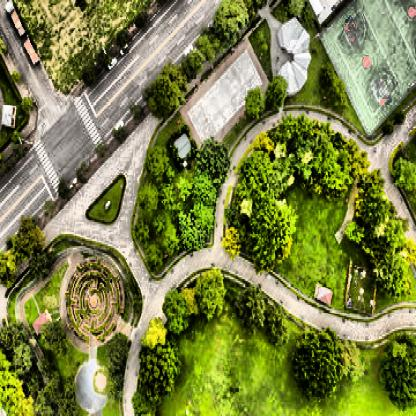tree-top: (295, 322, 340, 400), (143, 64, 196, 122), (379, 333, 416, 410), (253, 199, 290, 268), (140, 344, 177, 402), (314, 134, 348, 188), (237, 145, 268, 202), (198, 266, 227, 324), (236, 280, 268, 330), (389, 143, 416, 200), (0, 371, 34, 416), (184, 203, 212, 254), (198, 134, 228, 181), (214, 0, 245, 43), (164, 288, 188, 339), (272, 150, 295, 200), (386, 257, 412, 301), (264, 305, 291, 347), (346, 135, 371, 180), (16, 220, 44, 260), (36, 374, 62, 416), (364, 182, 388, 227), (102, 340, 128, 380), (0, 319, 26, 356), (190, 178, 220, 210), (12, 342, 37, 377), (147, 144, 170, 182), (220, 225, 244, 259), (264, 76, 288, 110), (0, 246, 18, 291), (42, 319, 66, 351), (144, 315, 168, 346), (330, 76, 349, 112), (162, 227, 181, 262), (140, 184, 160, 215), (143, 245, 164, 274), (246, 88, 265, 119), (34, 251, 54, 278), (187, 46, 204, 73), (320, 60, 336, 86), (347, 223, 365, 245)
